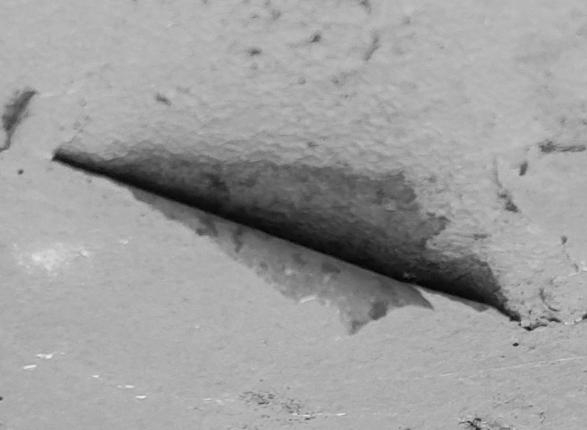paint-off: (0, 1, 587, 430)
